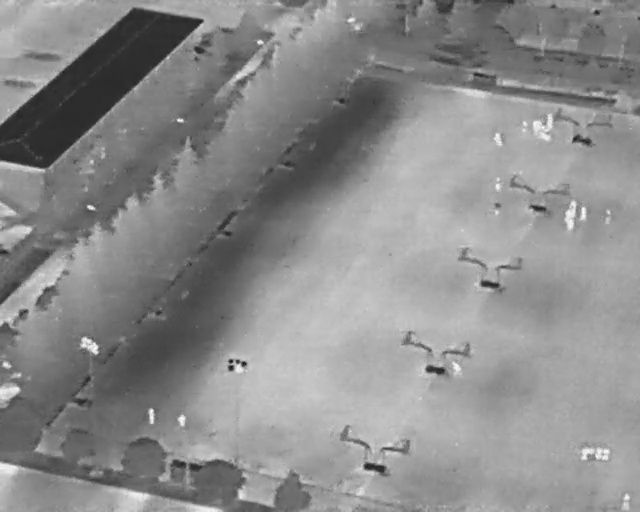Person: (563, 212, 576, 232), (621, 491, 631, 511), (146, 407, 156, 426), (603, 206, 612, 226), (531, 119, 542, 135), (493, 132, 504, 147), (494, 202, 503, 218), (176, 414, 186, 428), (602, 448, 612, 462), (546, 113, 554, 130), (568, 198, 576, 215), (587, 446, 596, 461), (539, 132, 552, 141), (579, 447, 588, 460), (495, 176, 502, 192), (580, 205, 587, 221), (595, 446, 602, 461)
